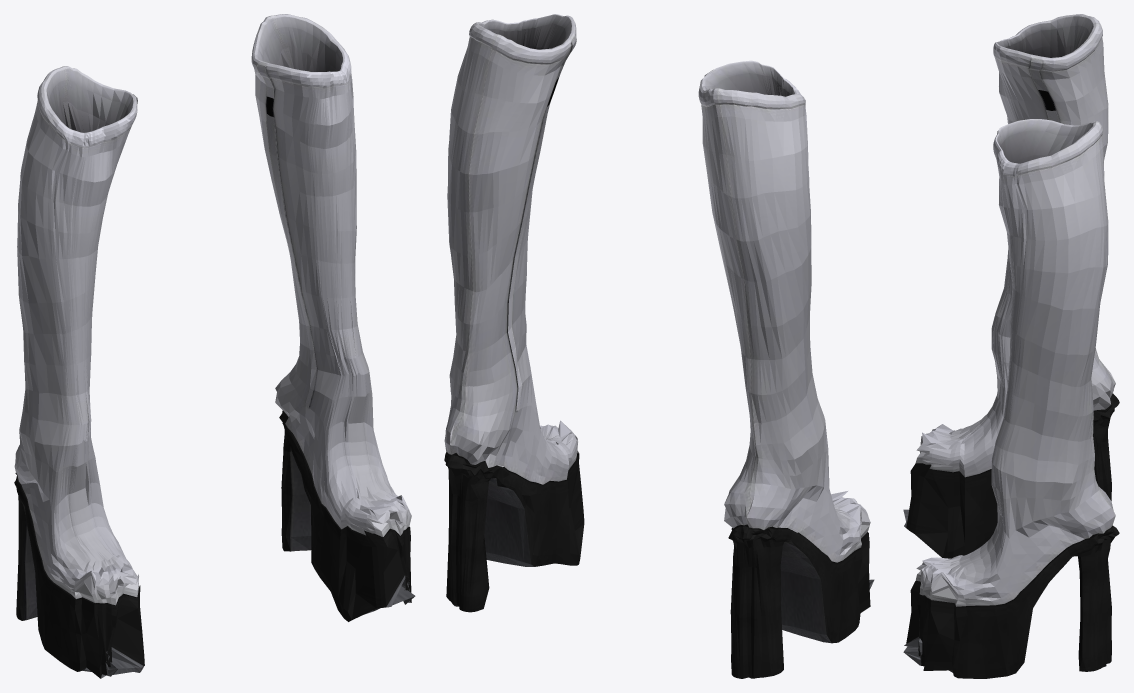
Rendered from mhw_scailman_gogo_platform_boots.glb.
3 views of the same model, side by side, from view 1: azimuth 30°, elevation 25°; view 2: azimuth 150°, elevation 25°; view 3: azimuth 270°, elevation 25° (orthographic). The views are drawn at different scales.
Visible parts, largest first — view 1: mhw_scailman_gogo_platform_boots; view 2: mhw_scailman_gogo_platform_boots; view 3: mhw_scailman_gogo_platform_boots.
Part boxes in pixels (box(x1,y1,x2,y2)): mhw_scailman_gogo_platform_boots: box(14, 14, 415, 678); mhw_scailman_gogo_platform_boots: box(444, 14, 874, 678); mhw_scailman_gogo_platform_boots: box(903, 14, 1119, 678).
Size of the model in its own units: 0.5077 by 0.7913 by 0.2878.
Materials: 1 (1 with a texture image).
